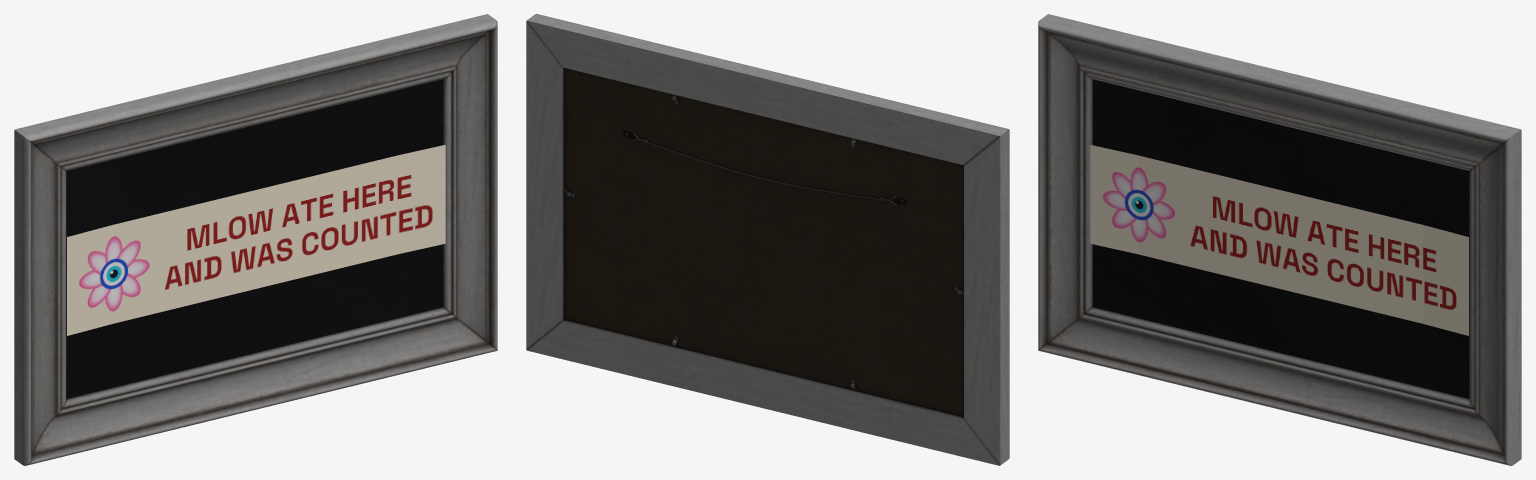
The model's file is nyb_katz_frame_b.glb.
3 views of the same model, side by side, from view 1: azimuth 30°, elevation 25°; view 2: azimuth 150°, elevation 25°; view 3: azimuth 330°, elevation 25° (orthographic).
Visible parts, largest first — view 1: hanging_picture_frame_02, stk_lbl_c2313e5510.png; view 2: hanging_picture_frame_02; view 3: hanging_picture_frame_02, stk_lbl_c2313e5510.png.
Part boxes in pixels (bbox=[...]): hanging_picture_frame_02: bbox=[14, 14, 497, 465]; stk_lbl_c2313e5510.png: bbox=[67, 145, 445, 335]; hanging_picture_frame_02: bbox=[526, 14, 1009, 465]; hanging_picture_frame_02: bbox=[1038, 14, 1521, 465]; stk_lbl_c2313e5510.png: bbox=[1090, 145, 1468, 335].
Size of the model in its own units: 0.7518 by 0.5 by 0.0331.
Materials: 4 (4 with a texture image).
